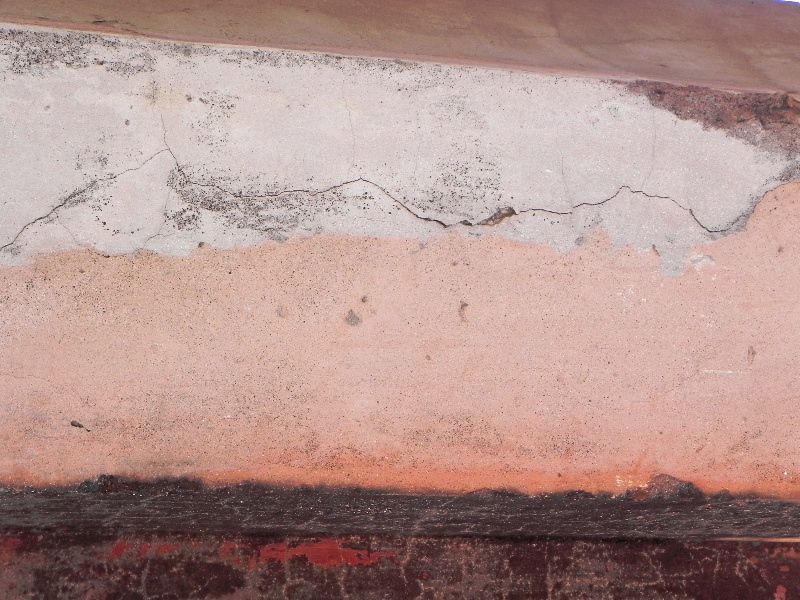Crack: (174, 147, 800, 236), (3, 143, 170, 245)
